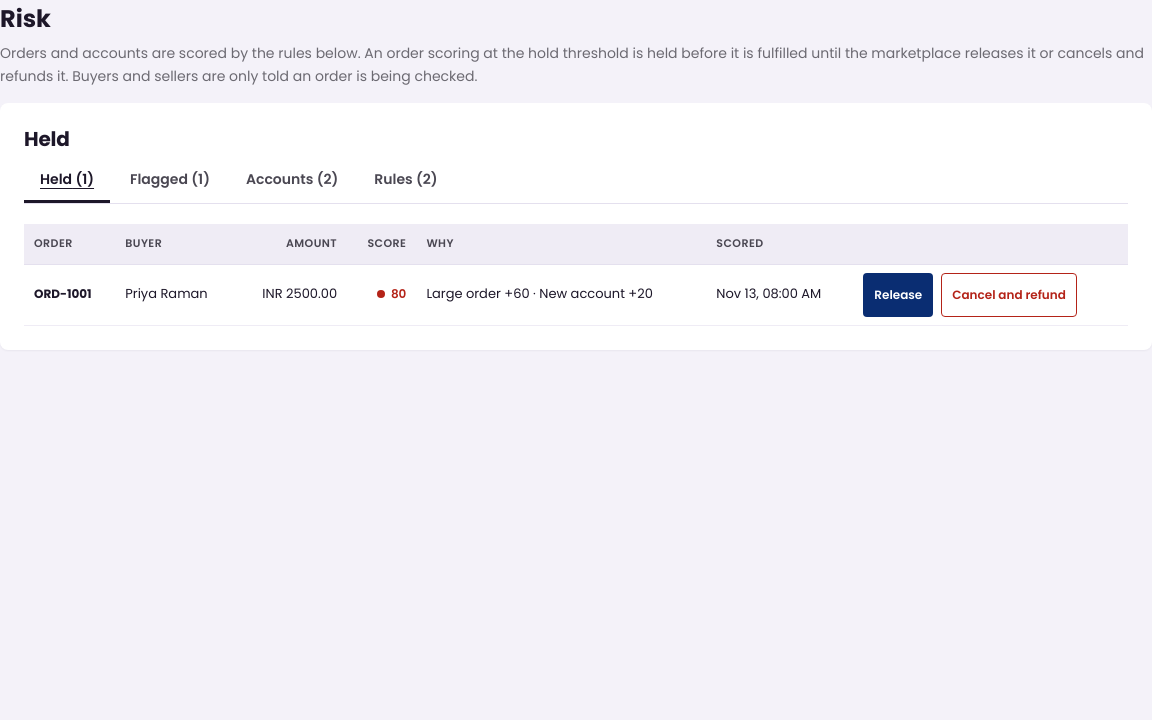
Test: OperatorRisk › releases a held order through the repo, with a note, and the row leaves the list
The width and height of the screenshot is (1152, 720).
Check: the text "Large order +60 · New account +20" is shown, box [416,264,706,325]
Check: the text "INR 2500.00" is shown, box [236,264,347,325]
Click the button "Release": (898, 295) [863,273,933,317]
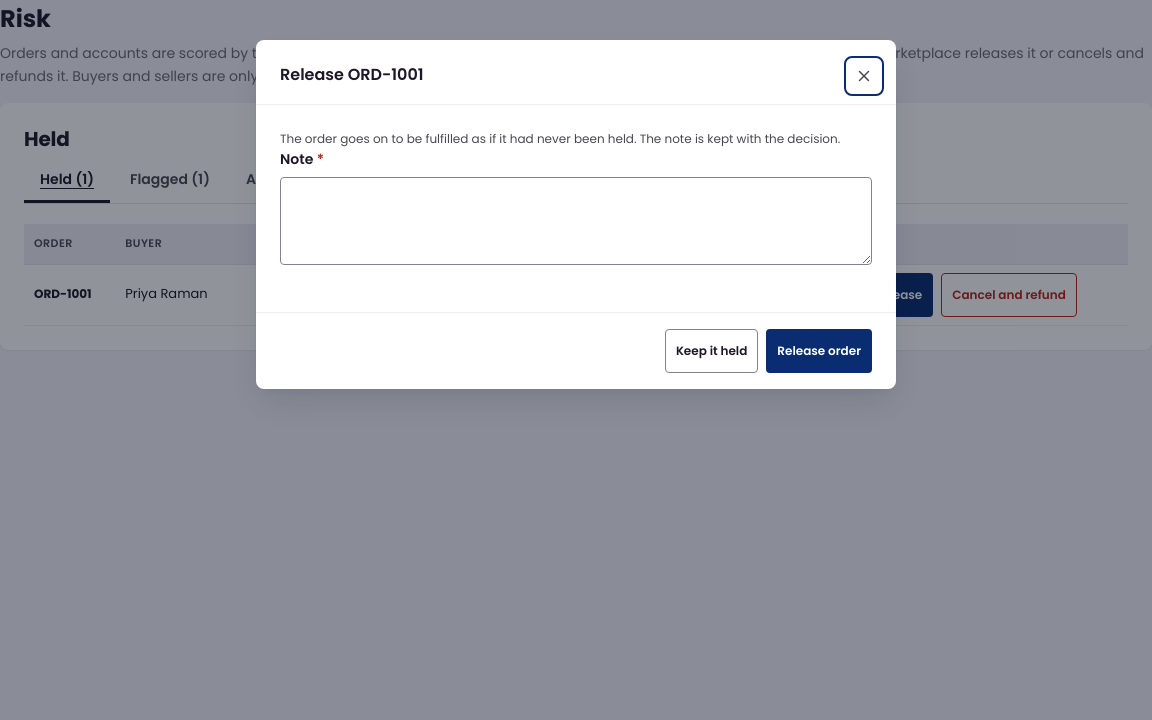
In the text box labelled "Note *": (576, 221) [280,177,872,265], type "Spoke to the buyer"
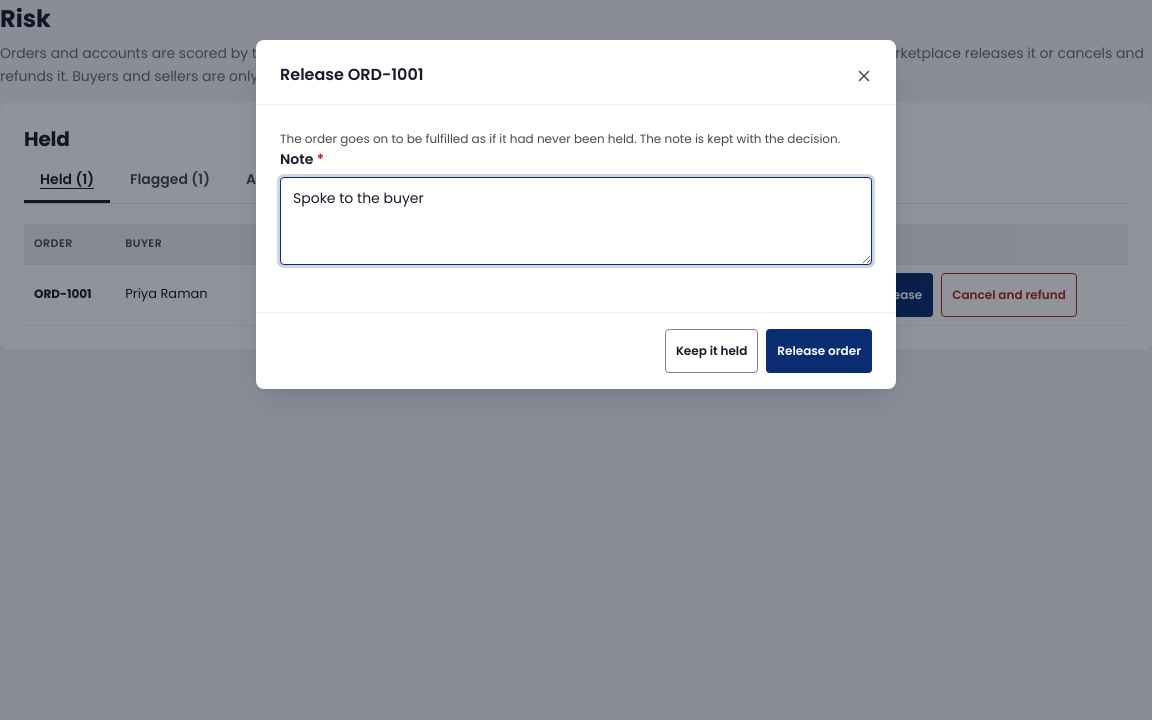
Click the button "Release order": (819, 351) [766,329,872,373]
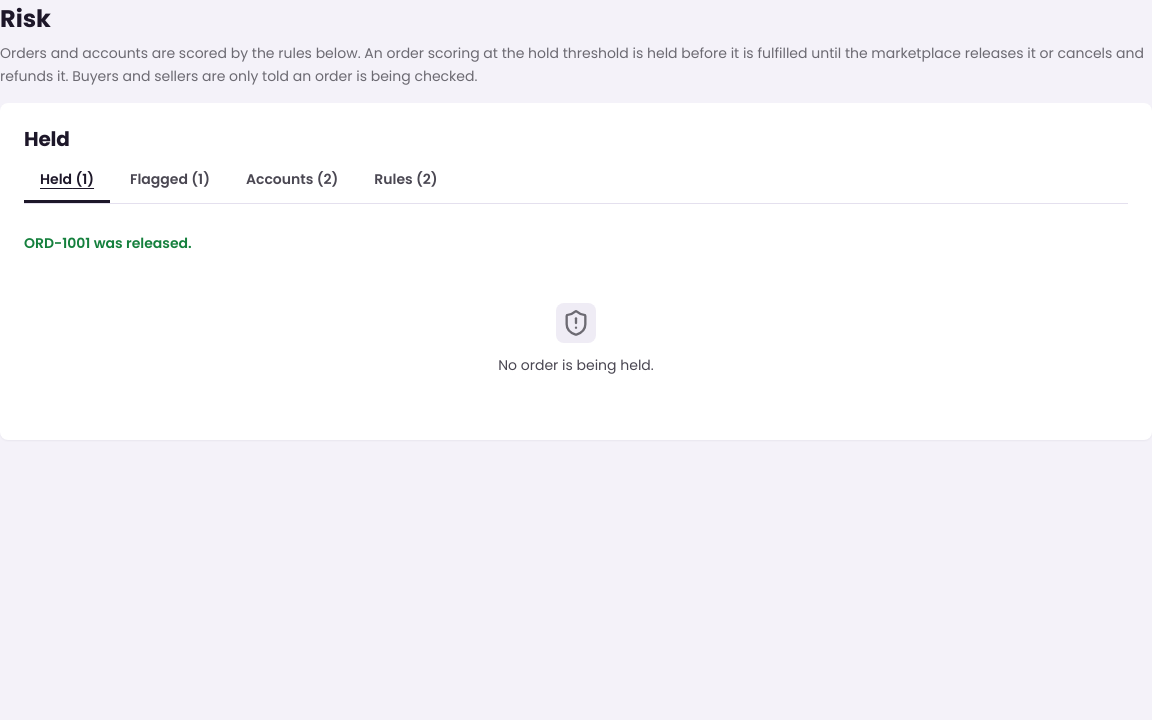
Check: the message shows "ORD-1001 was released", box [24,233,192,253]
Check: the text "Priya Raman" is gone
